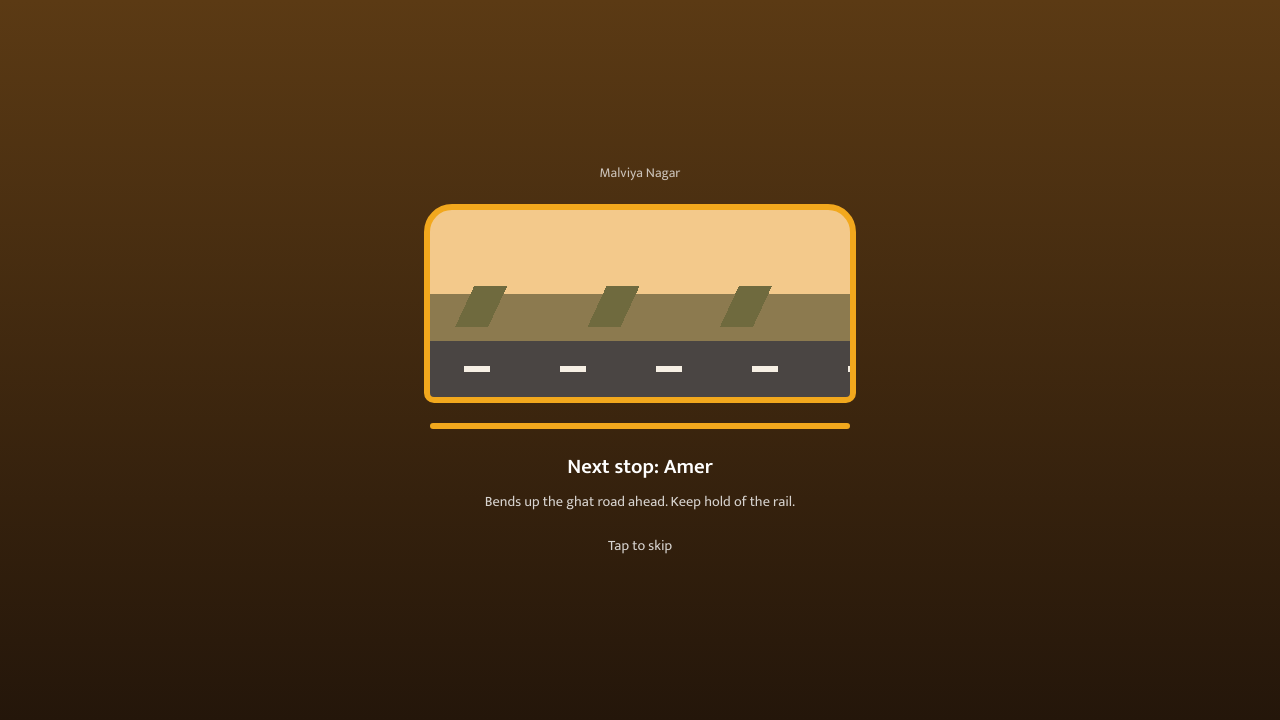
Test: to or from Amer it is a bus, not the metro: its own look and its own words
Expected: the element with class "bus-road" is shown, [430,210,850,397]
Click the button with class "metro-ride". click: (77, 360)
box: [0,0,1279,719]
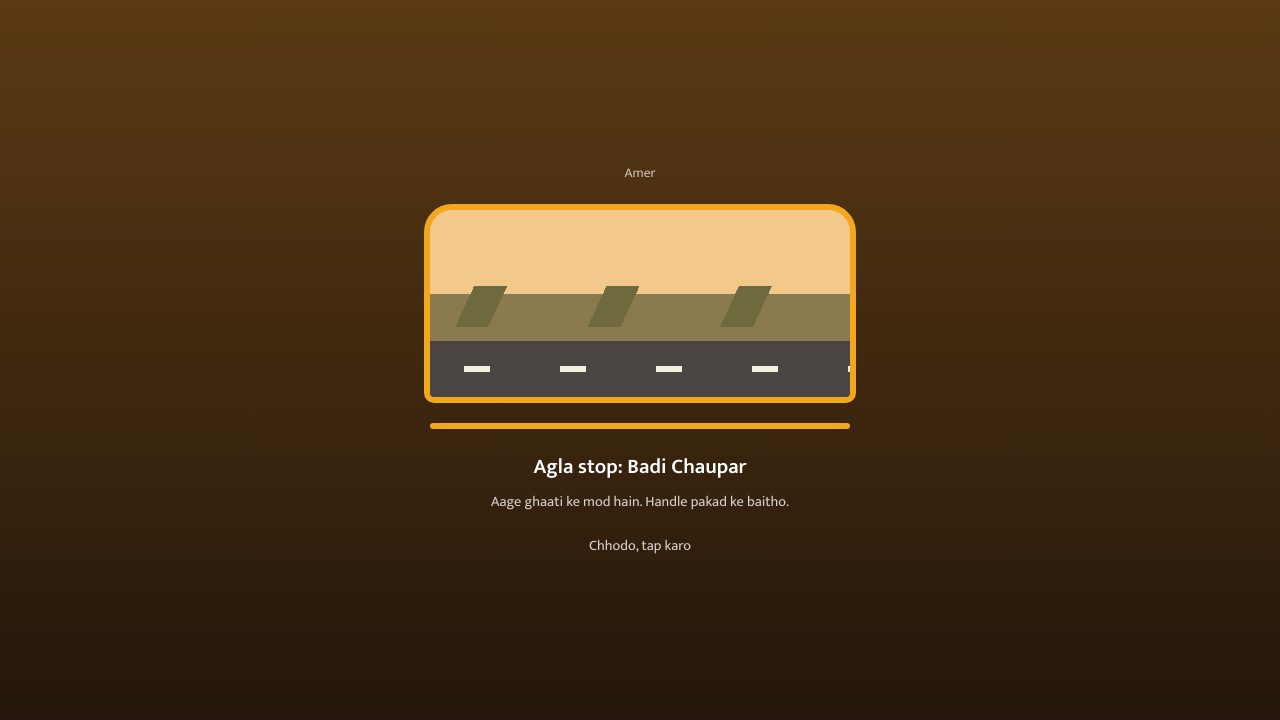
Expected: the button with class "metro-ride" has attribute aria-label="Bus safar — chhodne ke liye tap karo"
